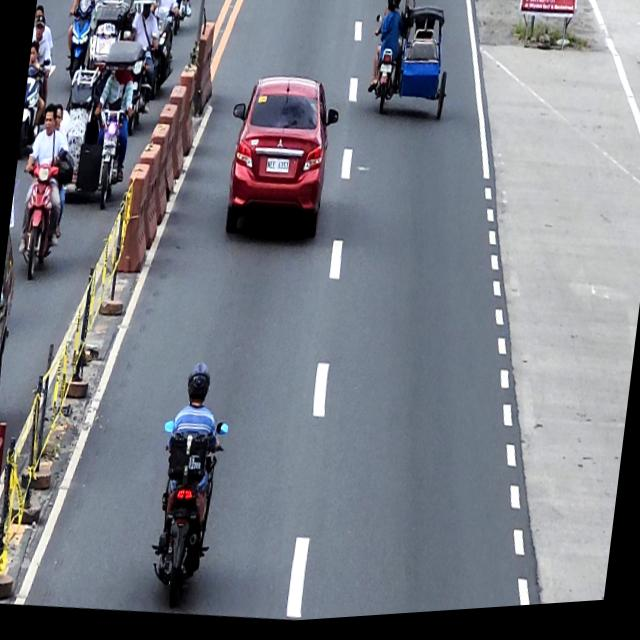Car: (218, 70, 343, 249)
License-Plate: (264, 157, 290, 178), (379, 68, 392, 79)
Motorcycle: (142, 415, 228, 616), (11, 155, 66, 284), (18, 57, 50, 160), (58, 0, 96, 84)
Tricycle: (53, 33, 144, 216), (77, 0, 165, 141), (364, 0, 458, 130)
